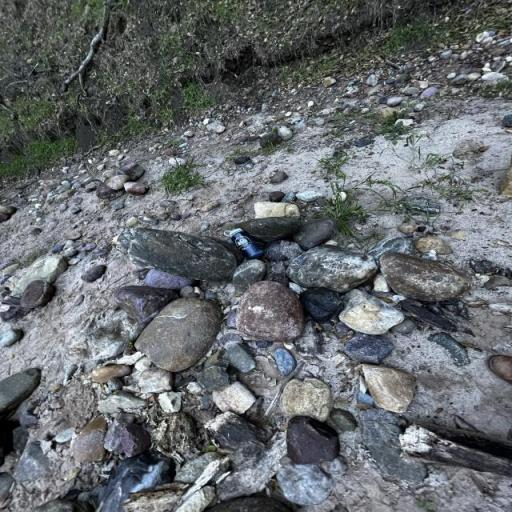bottle: (224, 228, 264, 260)
